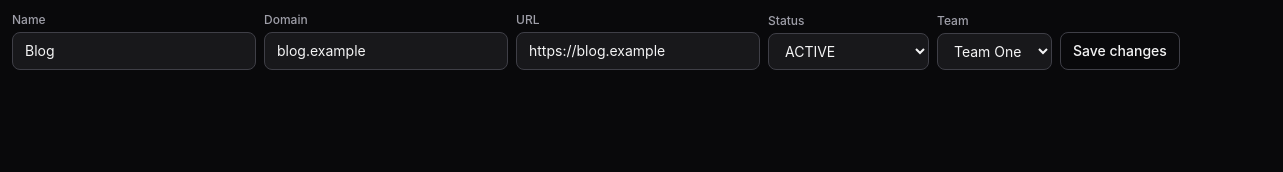
EditWebsiteForm › shows the server error and does not mark saved
Click the button "Save changes" at (1120, 51), box top-left (1060, 32), bottom-right (1180, 70)
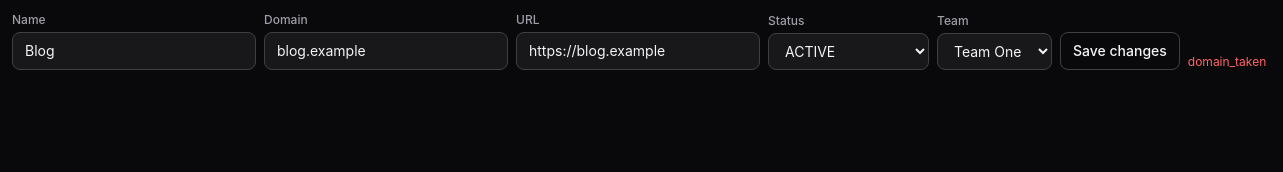
Check: the message reads "domain_taken", box top-left (1188, 54), bottom-right (1266, 69)
